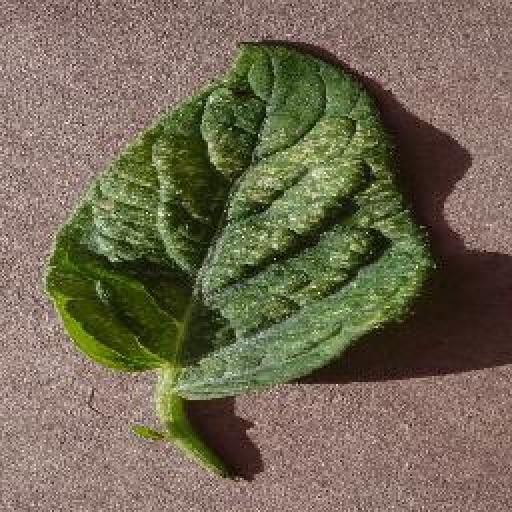Spider Mites: (43, 38, 440, 398)
